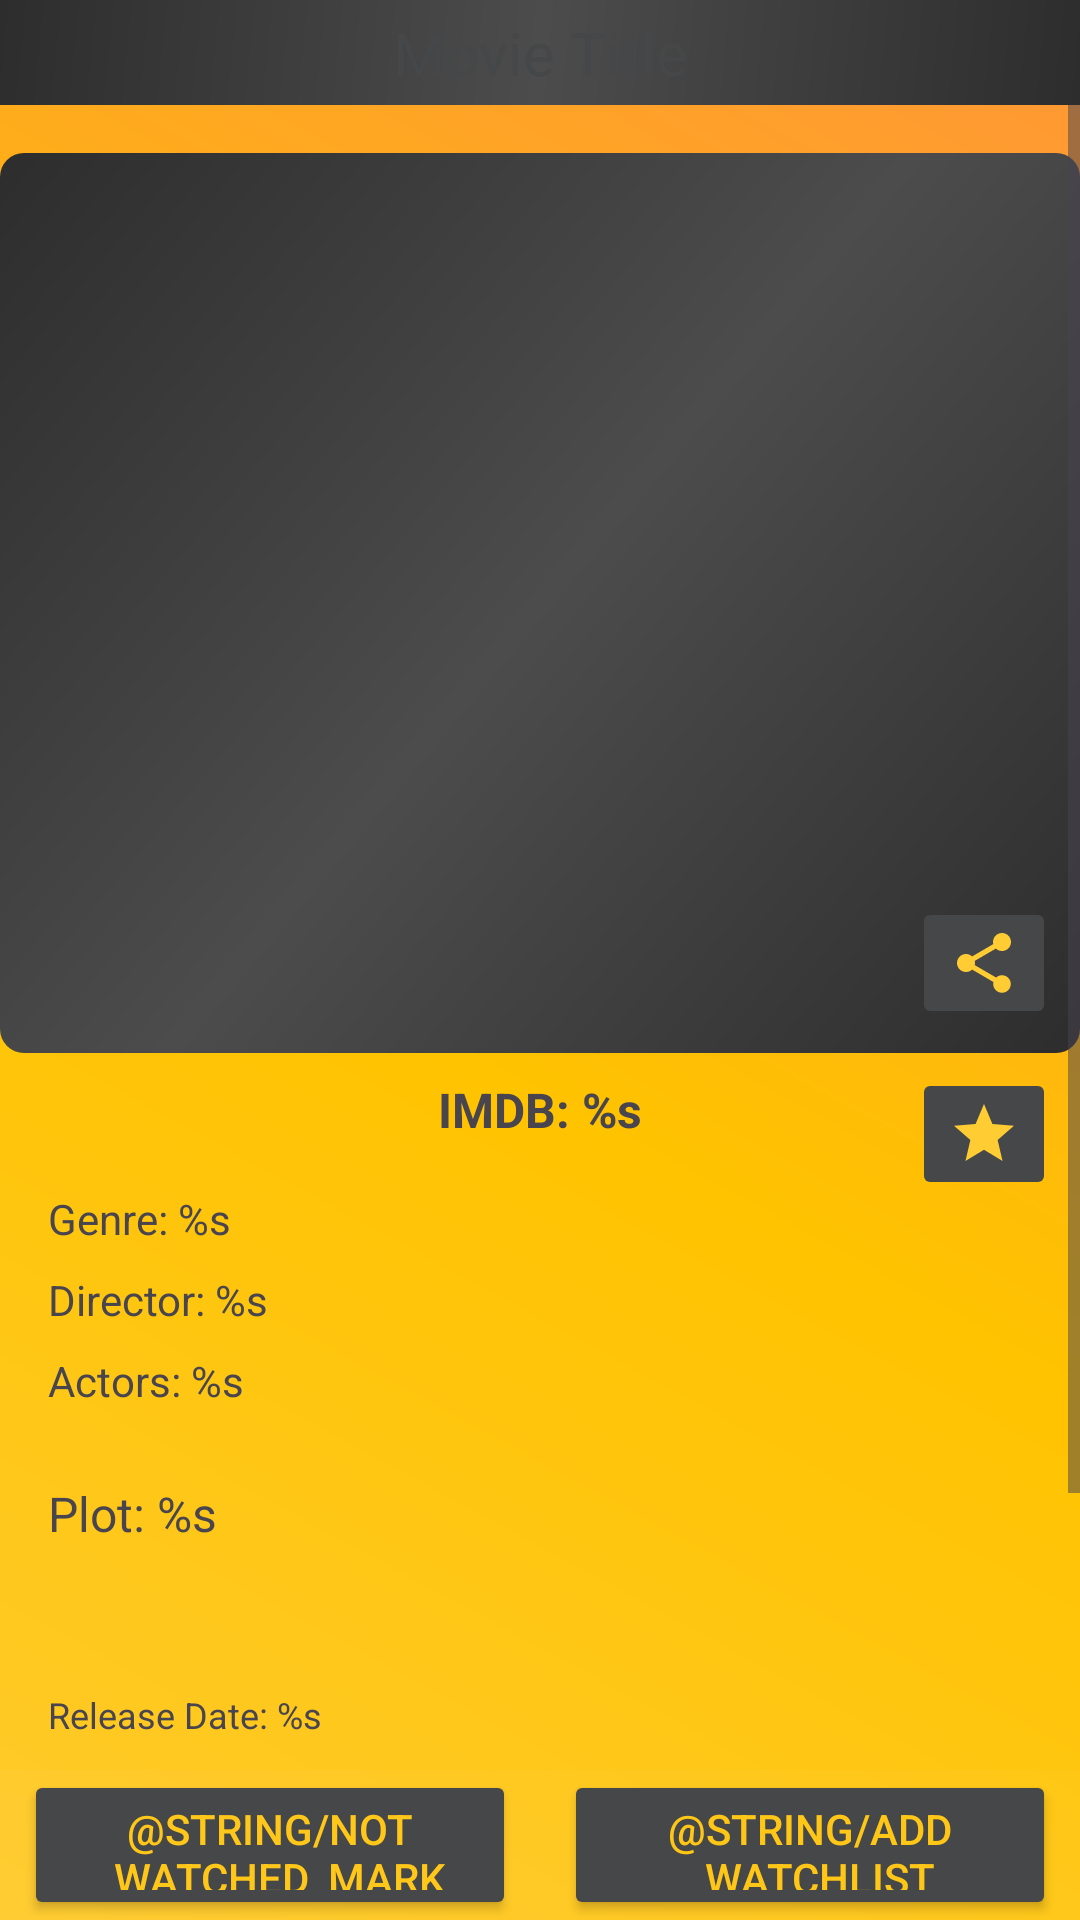

Point at icon controls on the screen. Image size 1080x1920, points as point (x, y).
movie rate: point (984, 1134)
share: point (984, 963)
